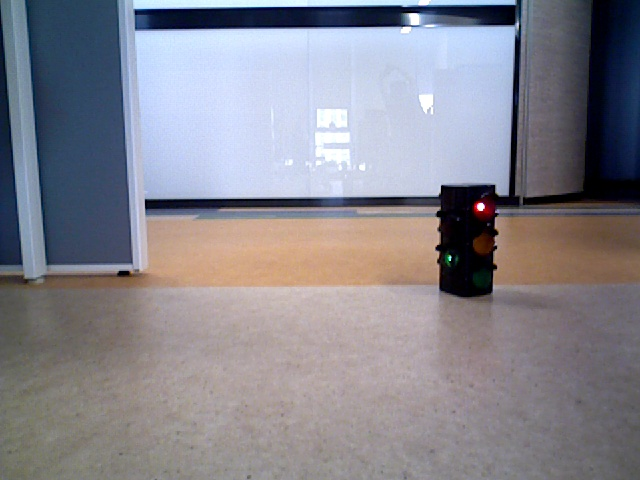red: (440, 184, 495, 293)
